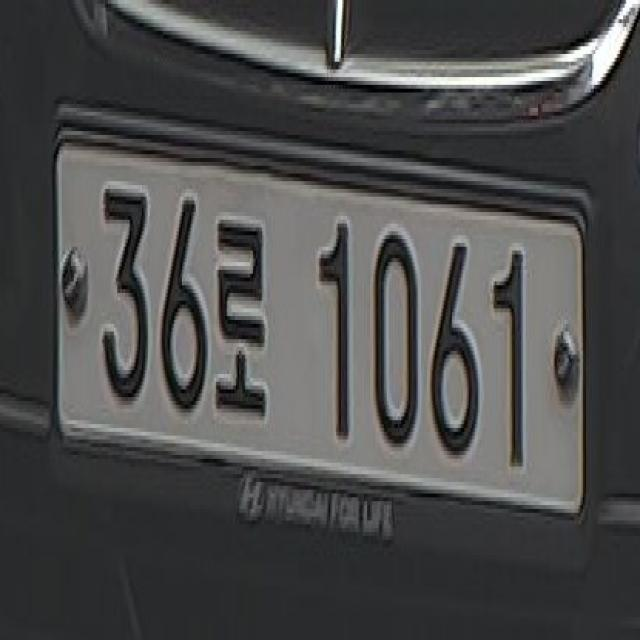plat: (50, 102, 591, 520)
